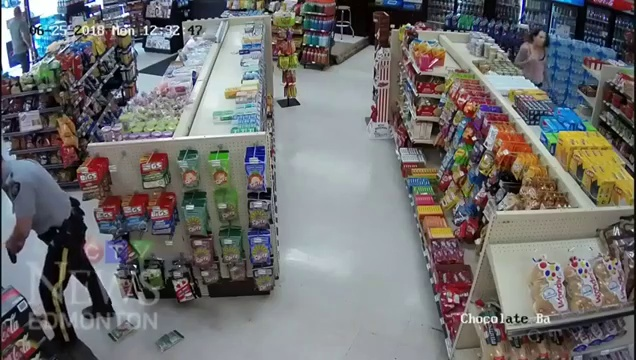face: (534, 30, 549, 47)
